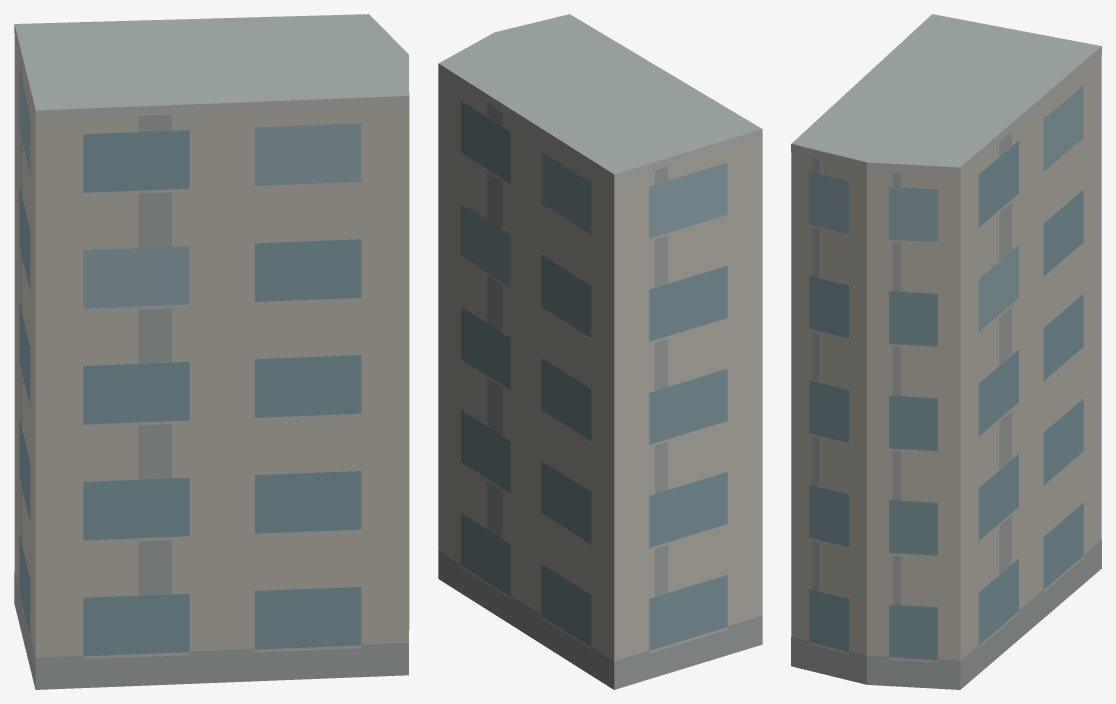
Rendered from survey-upis-32730427.glb.
3 renders of one model, left to right at view 1: azimuth 30°, elevation 25°; view 2: azimuth 150°, elevation 25°; view 3: azimuth 270°, elevation 25°, orthographic. The views are drawn at different scales.
Parts seen in each view (by area): view 1: survey-upis-32730427.tmp; view 2: survey-upis-32730427.tmp; view 3: survey-upis-32730427.tmp.
Part boxes in pixels (<box>): survey-upis-32730427.tmp: <box>14,14,409,689</box>; survey-upis-32730427.tmp: <box>438,14,762,689</box>; survey-upis-32730427.tmp: <box>791,14,1101,689</box>.
Bounding box in the file's own units: 9.33 × 14.8 × 7.98.
